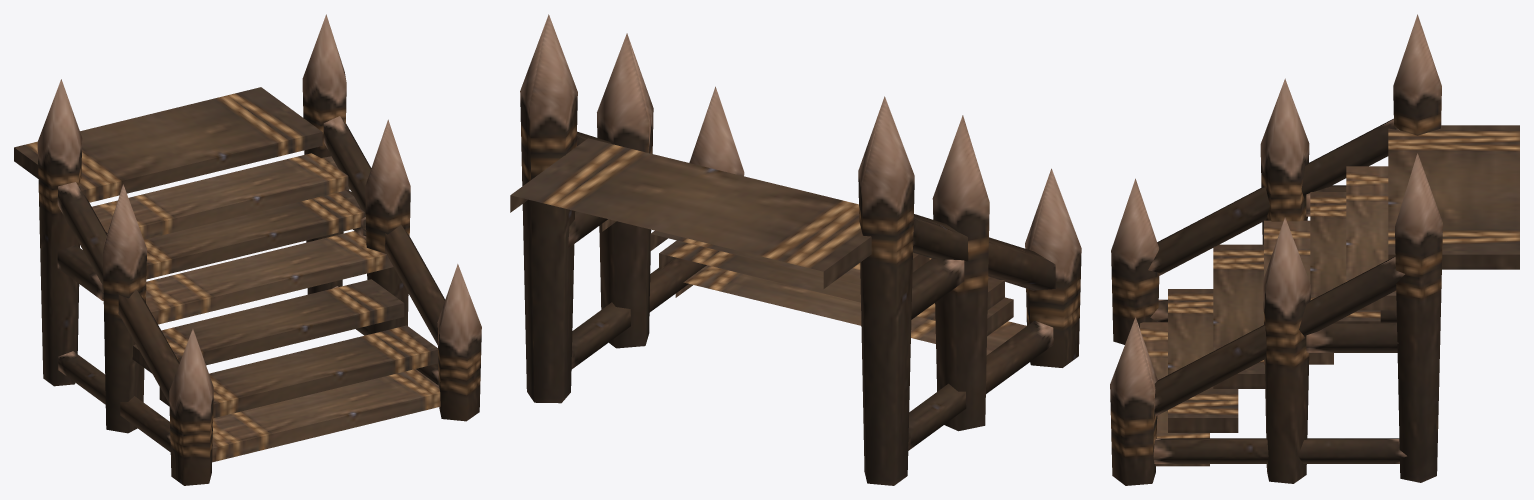
Rendered from ice_stair.FBX.
3 renders of one model, left to right at view 1: azimuth 30°, elevation 25°; view 2: azimuth 150°, elevation 25°; view 3: azimuth 270°, elevation 25°, orthographic. The views are drawn at different scales.
Visible parts, largest first — view 1: Object039; view 2: Object039; view 3: Object039.
Part boxes in pixels (x1,y1,x2,y2): Object039: [14, 14, 481, 485]; Object039: [510, 14, 1081, 485]; Object039: [1110, 14, 1519, 485].
Bounding box in the file's own units: 70.29 × 76.04 × 66.4.
